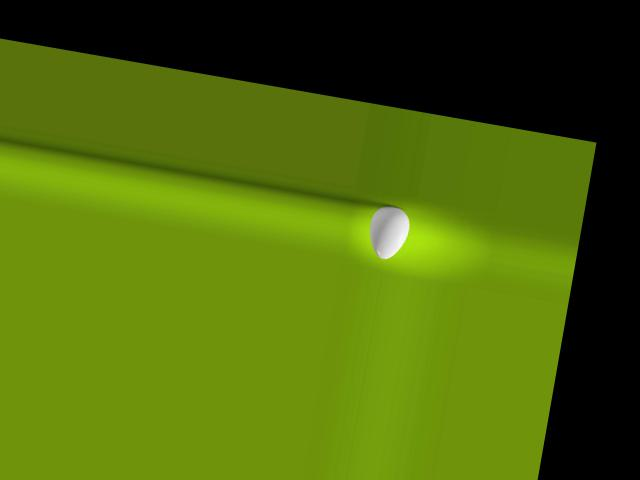egg: (364, 203, 412, 262)
